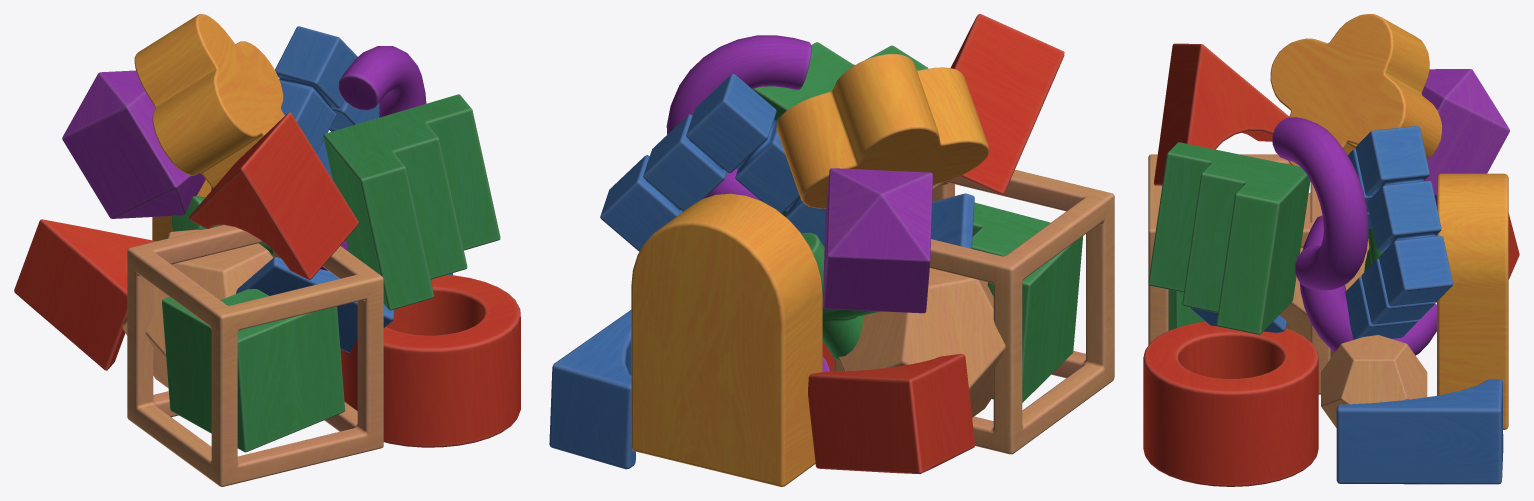
File: StackUp_BlockDummy.fbx
3 views of the same model, side by side, from view 1: azimuth 30°, elevation 25°; view 2: azimuth 150°, elevation 25°; view 3: azimuth 270°, elevation 25° (orthographic). The views are drawn at different scales.
Parts seen in each view (by area): view 1: StackUp_BlockDummy; view 2: StackUp_BlockDummy; view 3: StackUp_BlockDummy.
Boxes of the visible parts, x1,y1,x2,y2 form: StackUp_BlockDummy: [14, 14, 520, 486]; StackUp_BlockDummy: [549, 14, 1114, 486]; StackUp_BlockDummy: [1143, 14, 1519, 486].
Size of the model in its own units: 32.04 by 32.84 by 30.94.
